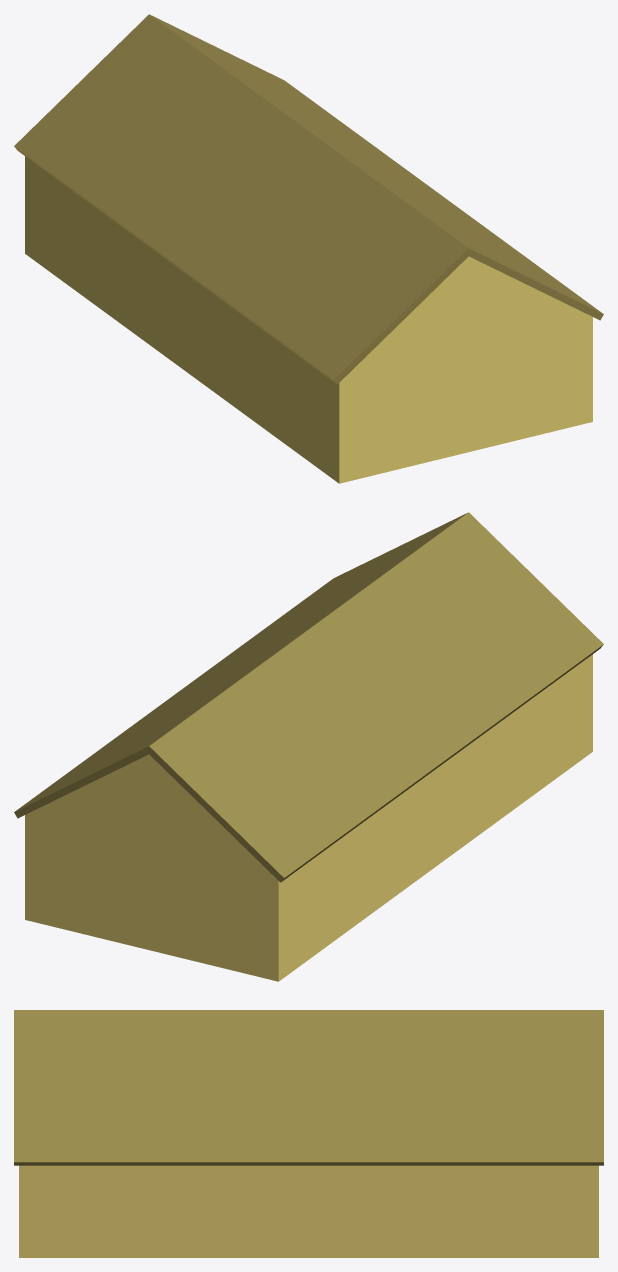
The model's file is result.glb.
The picture shows the model from 3 angles, top to bottom: view 1: azimuth 30°, elevation 25°; view 2: azimuth 150°, elevation 25°; view 3: azimuth 270°, elevation 25°; orthographic projection. The views are drawn at different scales.
Parts seen in each view (by area): view 1: 2587a5a7-a5b3-421b-b0ed-130186f212f2__undefined (×2), e914ecb0-6b44-403b-90e1-e66dc9b1921e__undefined; view 2: 2587a5a7-a5b3-421b-b0ed-130186f212f2__undefined (×2), e914ecb0-6b44-403b-90e1-e66dc9b1921e__undefined; view 3: 2587a5a7-a5b3-421b-b0ed-130186f212f2__undefined, e914ecb0-6b44-403b-90e1-e66dc9b1921e__undefined.
Part boxes in pixels (x1,y1,x2,y2): 2587a5a7-a5b3-421b-b0ed-130186f212f2__undefined (×2): (14,14,603,384); e914ecb0-6b44-403b-90e1-e66dc9b1921e__undefined: (25,156,592,483); 2587a5a7-a5b3-421b-b0ed-130186f212f2__undefined (×2): (14,512,603,882); e914ecb0-6b44-403b-90e1-e66dc9b1921e__undefined: (25,654,592,981); 2587a5a7-a5b3-421b-b0ed-130186f212f2__undefined: (14,1010,603,1165); e914ecb0-6b44-403b-90e1-e66dc9b1921e__undefined: (19,1165,598,1257).
Size of the model in its own units: 1063 by 776 by 2177.
